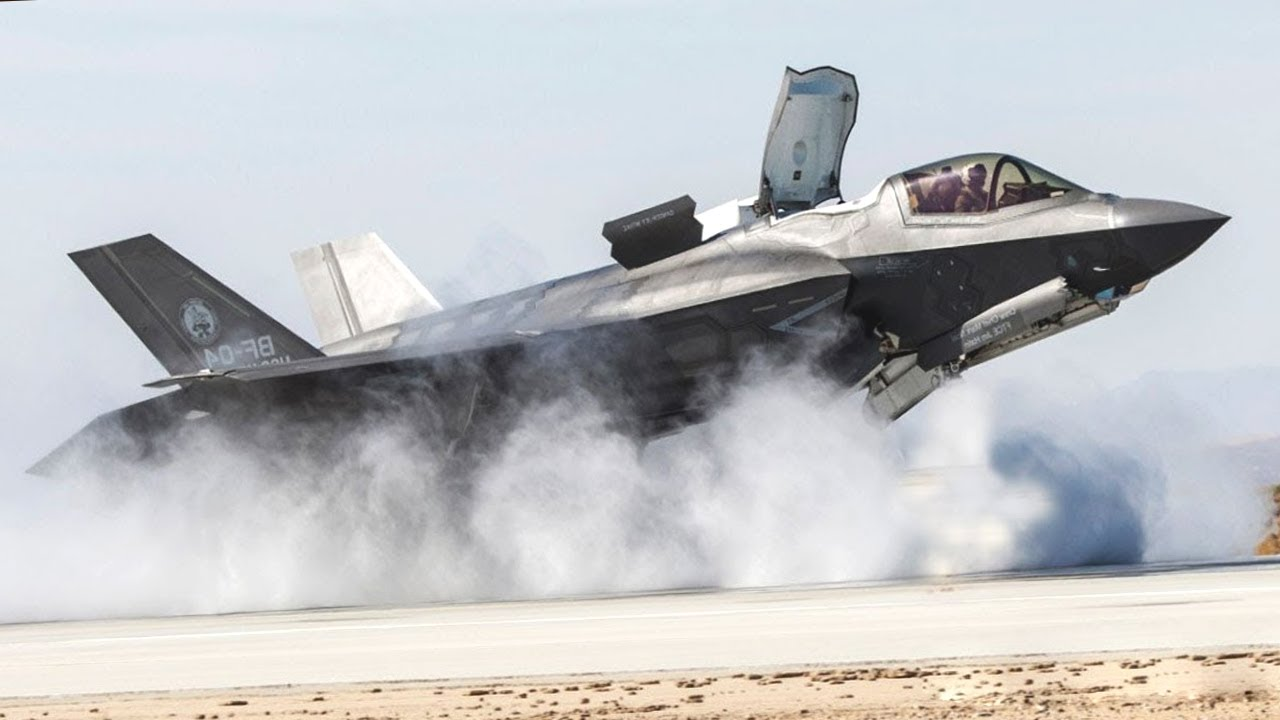F35: (19, 56, 1235, 577)
